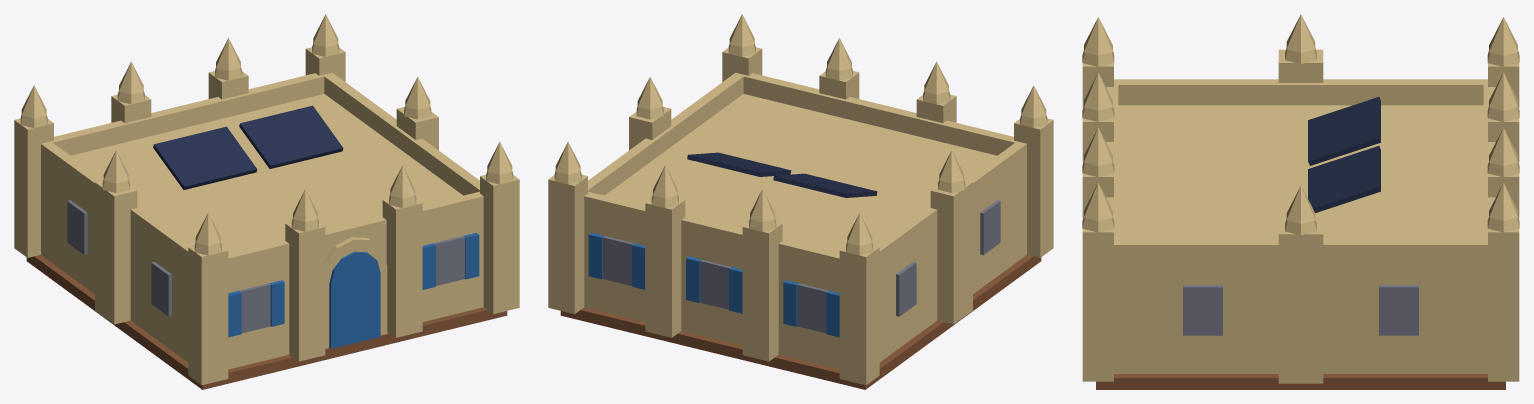
Rendered from house-1x1-1f-banco-a-solar.glb.
3 views of the same model, side by side, from view 1: azimuth 30°, elevation 25°; view 2: azimuth 150°, elevation 25°; view 3: azimuth 270°, elevation 25° (orthographic). The views are drawn at different scales.
Visible parts, largest first — view 1: house-1x1-1f-banco-a-solar; view 2: house-1x1-1f-banco-a-solar; view 3: house-1x1-1f-banco-a-solar.
Boxes of the visible parts, <box> form: house-1x1-1f-banco-a-solar: <box>14,14,519,389</box>; house-1x1-1f-banco-a-solar: <box>548,14,1053,389</box>; house-1x1-1f-banco-a-solar: <box>1082,14,1519,389</box>.
Bounding box in the file's own units: 0.9925 × 0.505 × 0.9814.
Materials: 1 (1 with a texture image).
